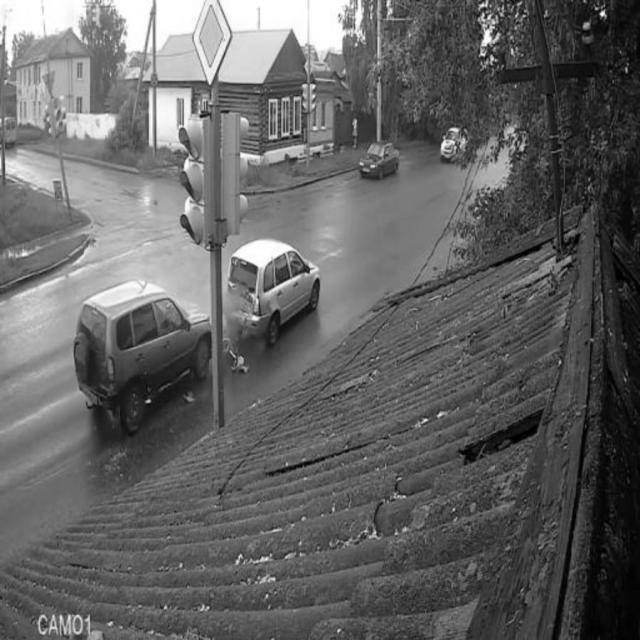vehicle: (74, 280, 211, 427), (227, 235, 320, 348), (356, 135, 402, 183), (439, 120, 469, 162), (0, 110, 18, 147)
